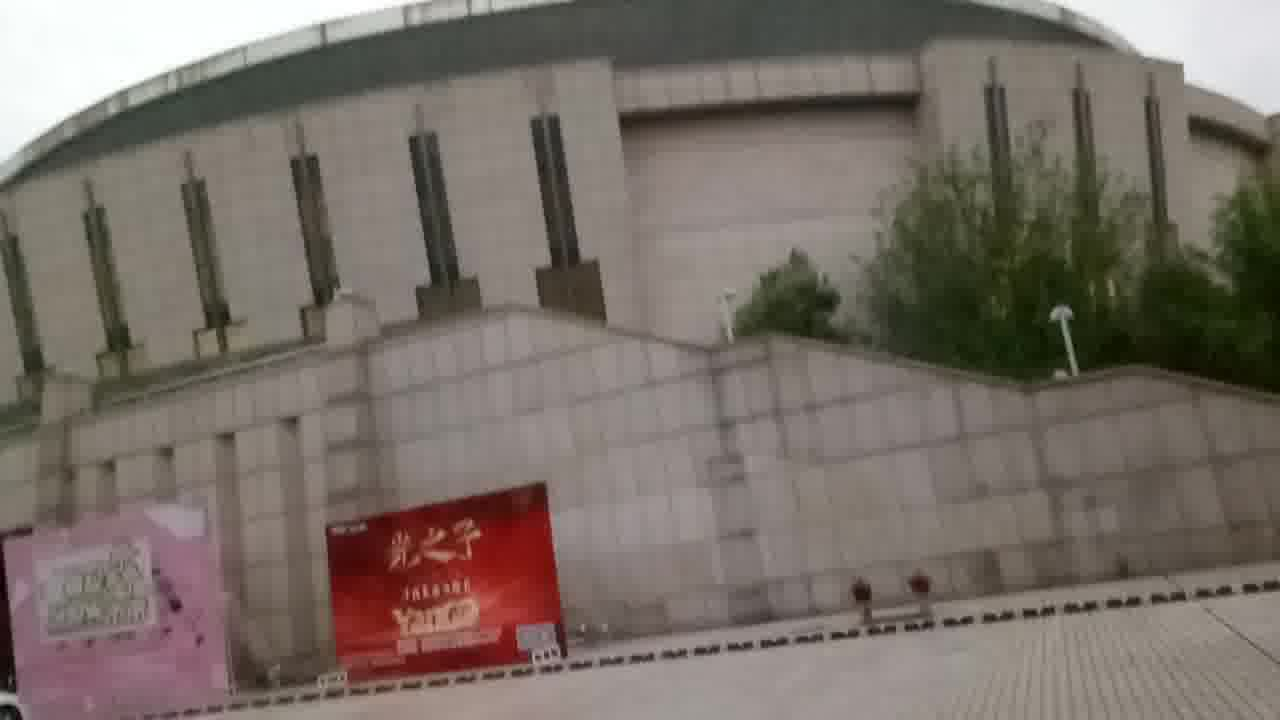zhongtiww: (6, 2, 1280, 630)
